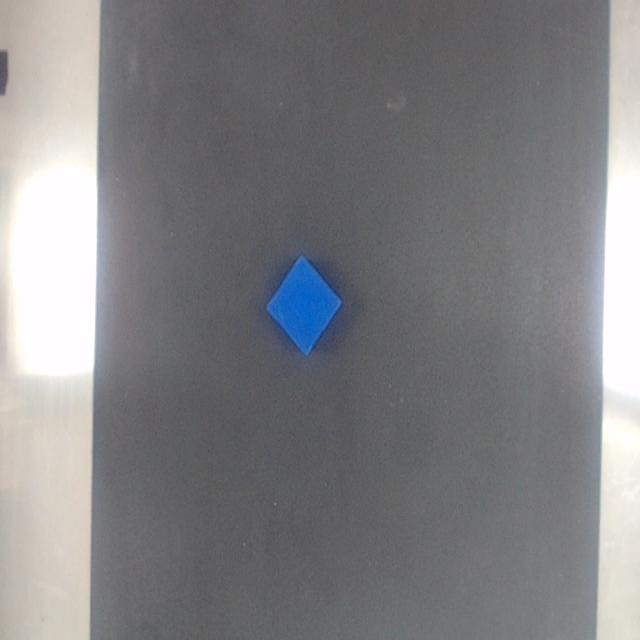Azul: (266, 256, 341, 355)
